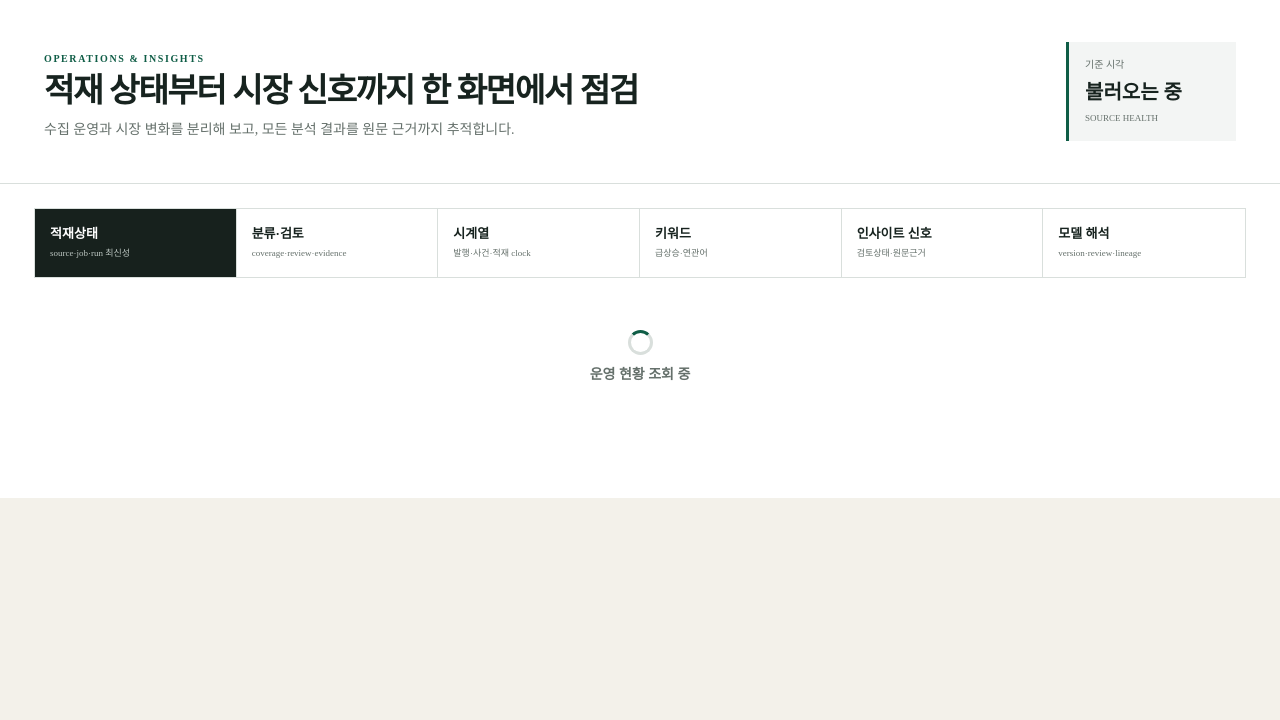
Test: OperationsInsightsWorkspace › loads the selected analysis panel without waiting for the overview request
This screenshot has width=1280, height=720.
Click the button "키워드 급상승·연관어": (741, 242) [640, 208, 842, 276]
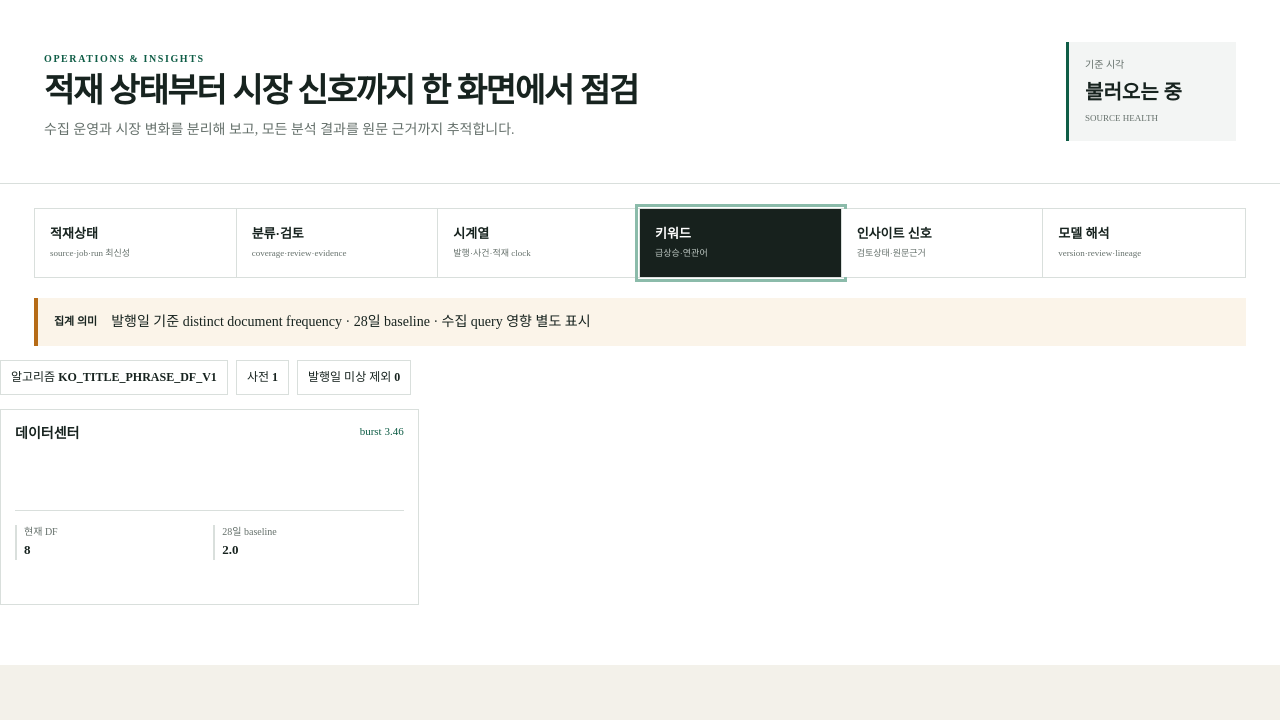
Now the text "데이터센터" is shown, box [15, 424, 79, 444]
Now the text "운영 현황 조회 중" is gone
